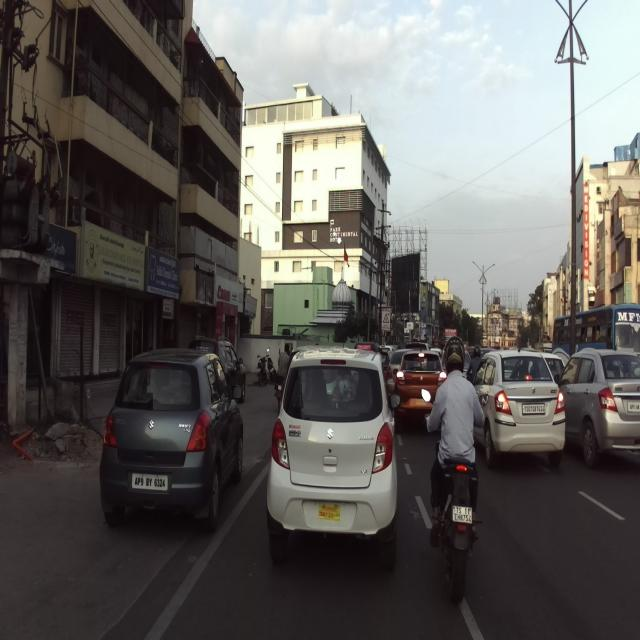Car_Maruti-Suzuki: (265, 345, 403, 572), (97, 346, 243, 535), (471, 349, 566, 469), (551, 349, 639, 470), (392, 341, 453, 437)
motorcycle_KTM: (420, 386, 489, 604)
